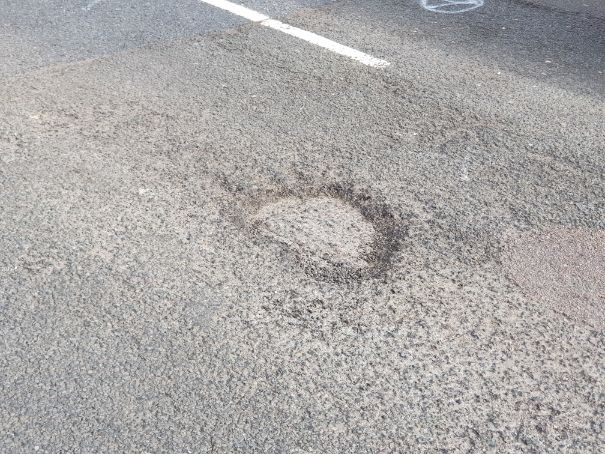pothole: (214, 170, 408, 283)
